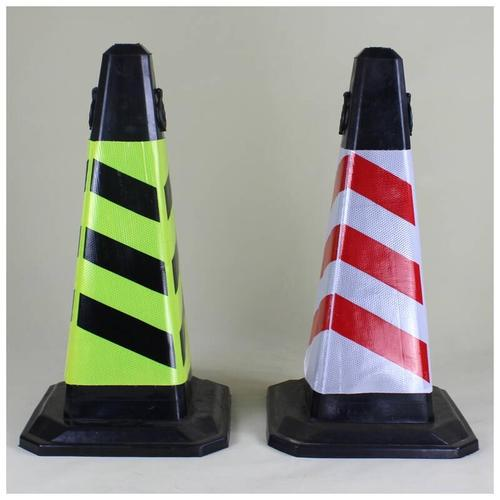cone_barrel: (278, 56, 466, 454), (37, 50, 217, 434)
